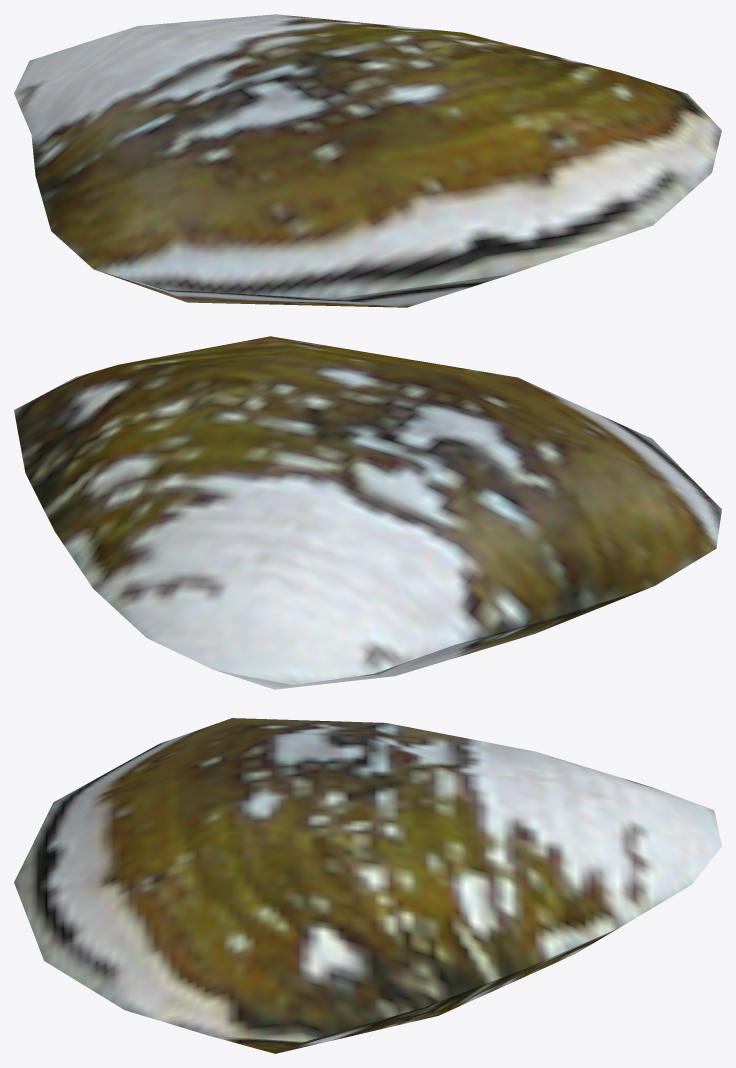
The model's file is SeaShell-14_LOD0_newsmall.glb.
The picture shows the model from 3 angles, top to bottom: view 1: azimuth 30°, elevation 25°; view 2: azimuth 150°, elevation 25°; view 3: azimuth 270°, elevation 25°; orthographic projection. The views are drawn at different scales.
Visible parts, largest first — view 1: SeaShell-14_high; view 2: SeaShell-14_high; view 3: SeaShell-14_high.
Part boxes in pixels (bbox=[...]): SeaShell-14_high: bbox=[14, 14, 721, 307]; SeaShell-14_high: bbox=[14, 336, 721, 689]; SeaShell-14_high: bbox=[14, 718, 721, 1053].
Bounding box in the file's own units: 0.1109 × 0.031 × 0.1053.
Materials: 1 (1 with a texture image).
